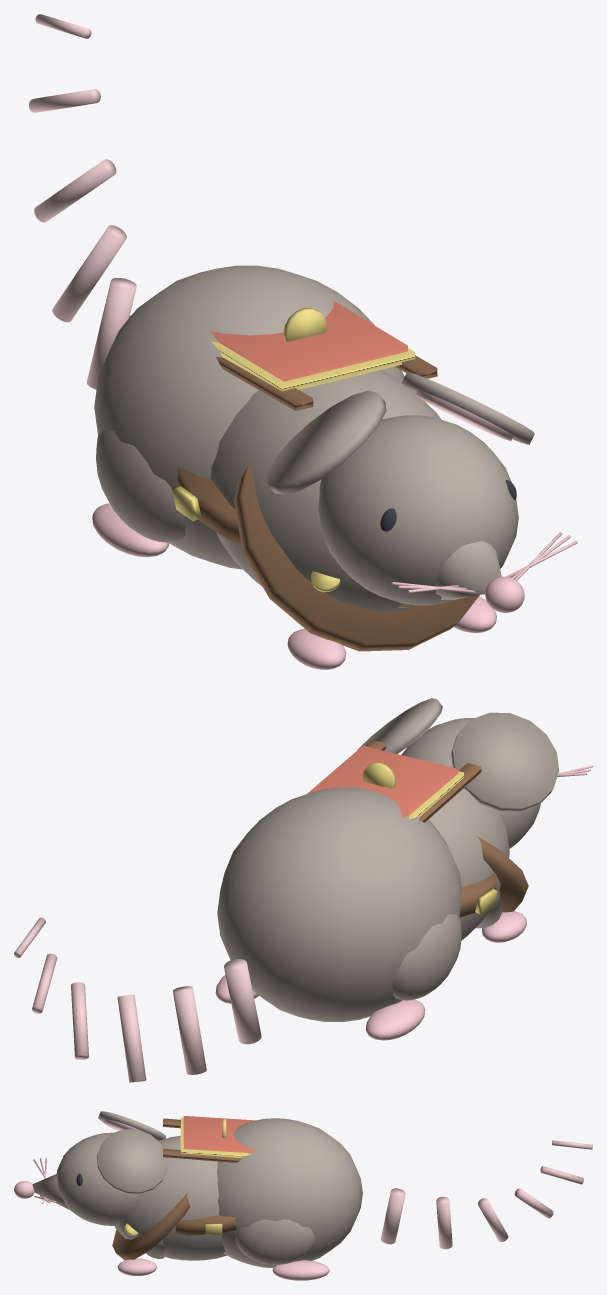
Rendered from mooshikan.glb.
3 renders of one model, top to bottom at view 1: azimuth 30°, elevation 25°; view 2: azimuth 150°, elevation 25°; view 3: azimuth 270°, elevation 25°, orthographic. The views are drawn at different scales.
Visible parts, largest first — view 1: Mouse_Haunches_Rear, Mouse_Head_Base, Mouse_Torso_Chest, Harness_ChestStrap, Harness_SaddleMount, Mouse_Ear_Outer_L, HindThigh_L, Mouse_Pointy_Snout, Mouse_Tail_Seg_3, Harness_SaddleTrim, Mouse_Tail_Seg_2, Harness_GirthStrap (+10 smaller); view 2: Mouse_Haunches_Rear, Mouse_Ear_Outer_L, Mouse_Torso_Chest, Harness_SaddleMount, HindThigh_L, Mouse_Head_Base, Mouse_Tail_Seg_1, Mouse_Ear_Outer_R, Mouse_Tail_Seg_2, HindPaw_L, Harness_ChestStrap, Mouse_Tail_Seg_3 (+7 smaller); view 3: Mouse_Haunches_Rear, Mouse_Torso_Chest, Mouse_Head_Base, Mouse_Ear_Outer_R, HindThigh_R, Harness_SaddleMount, Harness_ChestStrap, HindPaw_R, Mouse_Tail_Seg_1, Harness_GirthStrap, Mouse_Tail_Seg_2, Mouse_Pointy_Snout (+9 smaller).
Boxes of the visible parts, bbox=[...] form: Mouse_Haunches_Rear: bbox=[94, 265, 404, 569]; Mouse_Head_Base: bbox=[318, 415, 518, 605]; Mouse_Torso_Chest: bbox=[210, 369, 441, 612]; Harness_ChestStrap: bbox=[234, 457, 479, 651]; Harness_SaddleMount: bbox=[210, 301, 407, 381]; Mouse_Ear_Outer_L: bbox=[266, 390, 386, 495]; HindThigh_L: bbox=[96, 430, 185, 542]; Mouse_Pointy_Snout: bbox=[434, 541, 501, 599]; Mouse_Tail_Seg_3: bbox=[52, 225, 126, 322]; Harness_SaddleTrim: bbox=[211, 341, 415, 391]; Mouse_Tail_Seg_2: bbox=[86, 278, 136, 389]; Harness_GirthStrap: bbox=[176, 467, 240, 543]; Mouse_Haunches_Rear: bbox=[217, 787, 462, 1021]; Mouse_Ear_Outer_L: bbox=[450, 712, 559, 812]; Mouse_Torso_Chest: bbox=[429, 788, 509, 940]; Harness_SaddleMount: bbox=[307, 745, 458, 817]; HindThigh_L: bbox=[392, 914, 461, 1000]; Mouse_Head_Base: bbox=[401, 718, 540, 848]; Mouse_Tail_Seg_1: bbox=[224, 959, 261, 1044]; Mouse_Ear_Outer_R: bbox=[357, 698, 442, 753]; Mouse_Tail_Seg_2: bbox=[173, 986, 206, 1074]; HindPaw_L: bbox=[365, 999, 425, 1040]; Harness_ChestStrap: bbox=[477, 836, 528, 912]; Mouse_Tail_Seg_3: bbox=[117, 994, 146, 1082]; Mouse_Haunches_Rear: bbox=[217, 1118, 362, 1268]; Mouse_Torso_Chest: bbox=[114, 1135, 227, 1260]; Mouse_Head_Base: bbox=[56, 1132, 138, 1225]; Mouse_Ear_Outer_R: bbox=[96, 1129, 167, 1194]; HindThigh_R: bbox=[235, 1219, 315, 1264]; Harness_SaddleMount: bbox=[183, 1116, 257, 1152]; Harness_ChestStrap: bbox=[112, 1192, 190, 1260]; HindPaw_R: bbox=[272, 1260, 329, 1280]; Mouse_Tail_Seg_1: bbox=[380, 1188, 405, 1244]; Harness_GirthStrap: bbox=[175, 1215, 236, 1235]; Mouse_Tail_Seg_2: bbox=[436, 1196, 452, 1249]; Mouse_Pointy_Snout: bbox=[32, 1174, 69, 1209].
Size of the model in its own units: 0.636 by 0.6347 by 2.26.
